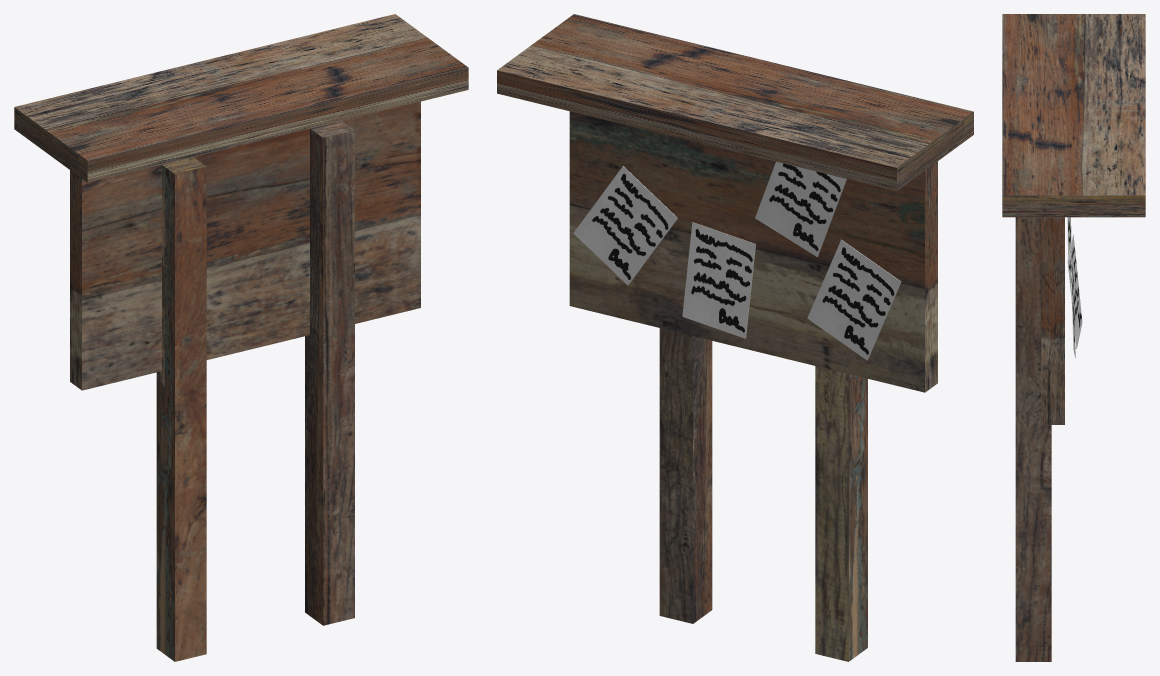
The model's file is notice_board2.fbx.
3 views of the same model, side by side, from view 1: azimuth 30°, elevation 25°; view 2: azimuth 150°, elevation 25°; view 3: azimuth 270°, elevation 25° (orthographic). The views are drawn at different scales.
Parts seen in each view (by area): view 1: Cube.001, Cube.003, Cube, Cube.002; view 2: Cube.001, Cube.003, Cube.002, Cube, Plane.002, Plane.001, Plane, Plane.003; view 3: Cube.003, Cube.002, Cube.001, Plane.001, Plane.002.
Boxes of the visible parts, x1,y1,x2,y2 form: Cube.001: (70,101,420,390); Cube.003: (14,14,468,182); Cube: (156,157,206,661); Cube.002: (305,121,354,625); Cube.001: (569,111,937,392); Cube.003: (497,14,973,190); Cube.002: (659,328,712,623); Cube: (815,366,867,661); Plane.002: (573,166,677,285); Plane.001: (682,222,755,338); Plane: (807,239,901,360); Plane.003: (755,161,846,257); Cube.003: (1002,14,1145,217); Cube.002: (1015,217,1051,661); Cube.001: (1041,217,1064,424); Plane.001: (1067,234,1082,349); Plane.002: (1070,254,1075,357).
Bounding box in the file's own units: 360 × 478 × 120.
